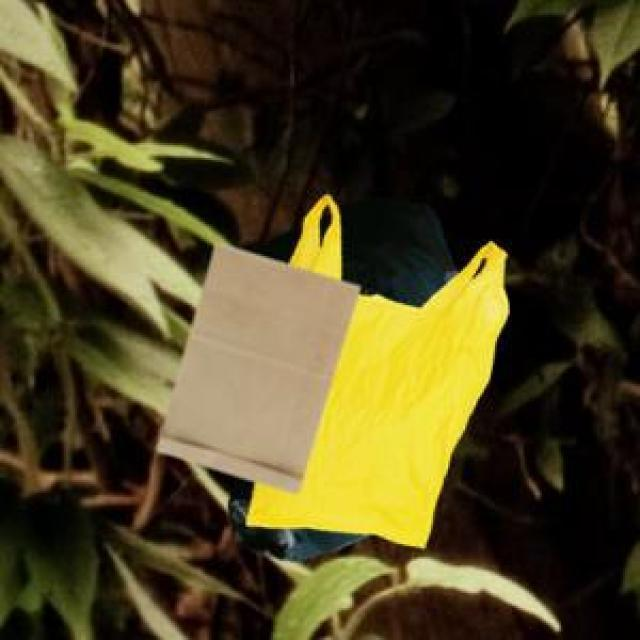miscellaneous trash: (224, 194, 452, 557)
paper: (154, 239, 356, 489)
